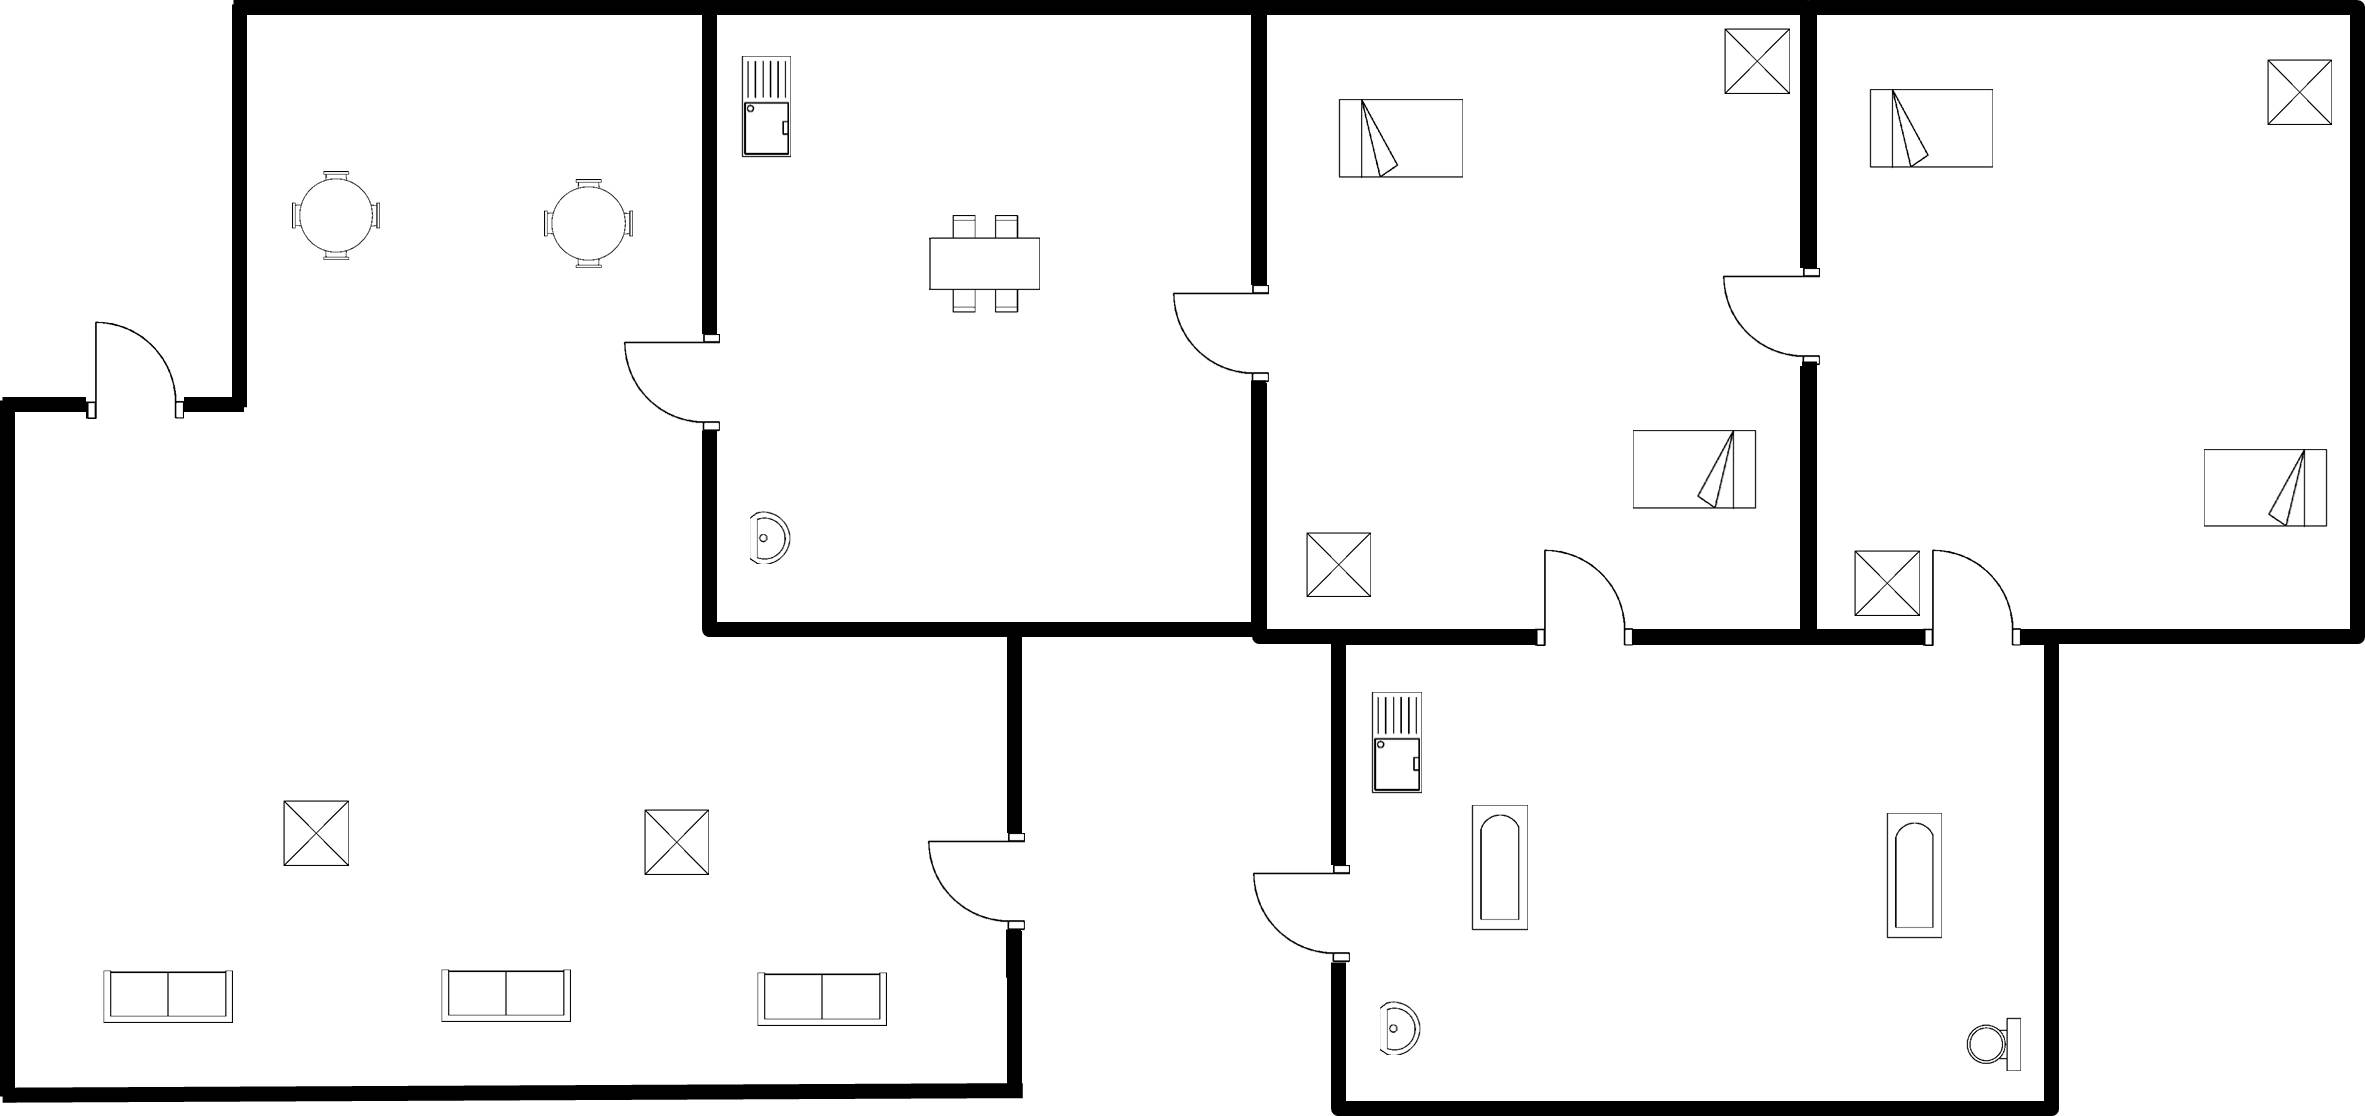bed: (1326, 88, 1482, 197), (1619, 410, 1768, 520), (1856, 73, 2005, 181), (2190, 436, 2338, 544)
coffee_table: (1293, 514, 1388, 614), (273, 785, 363, 881), (2253, 47, 2348, 136), (1841, 539, 1929, 632), (631, 797, 721, 885), (1710, 20, 1802, 105)
dining_table: (910, 202, 1065, 330)
large_sink: (1954, 997, 2029, 1088)
large_sofa: (426, 952, 580, 1041), (88, 958, 249, 1039), (744, 964, 905, 1042)
round_table: (275, 159, 395, 280), (529, 164, 649, 285)
sink: (727, 42, 809, 175), (1361, 678, 1438, 807)
small_sink: (1361, 991, 1432, 1076), (731, 498, 800, 575)
tub: (1870, 795, 1953, 951), (1461, 793, 1536, 946)
